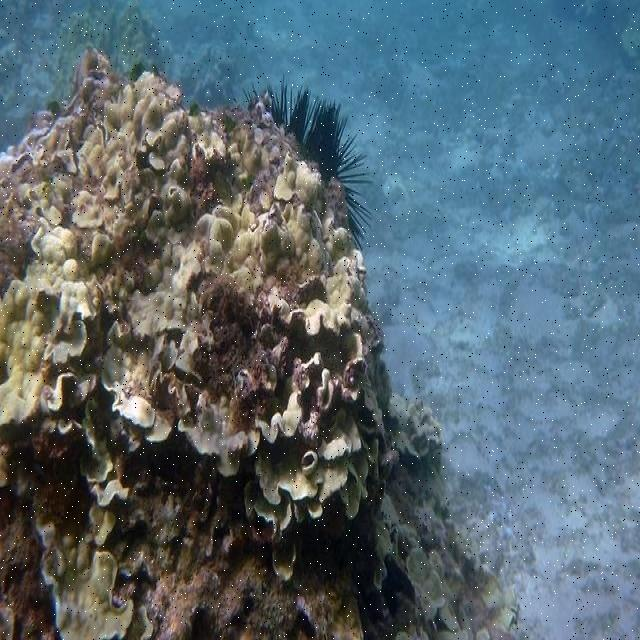aquatic plants: (243, 74, 372, 238)
reefs: (0, 52, 521, 639)
